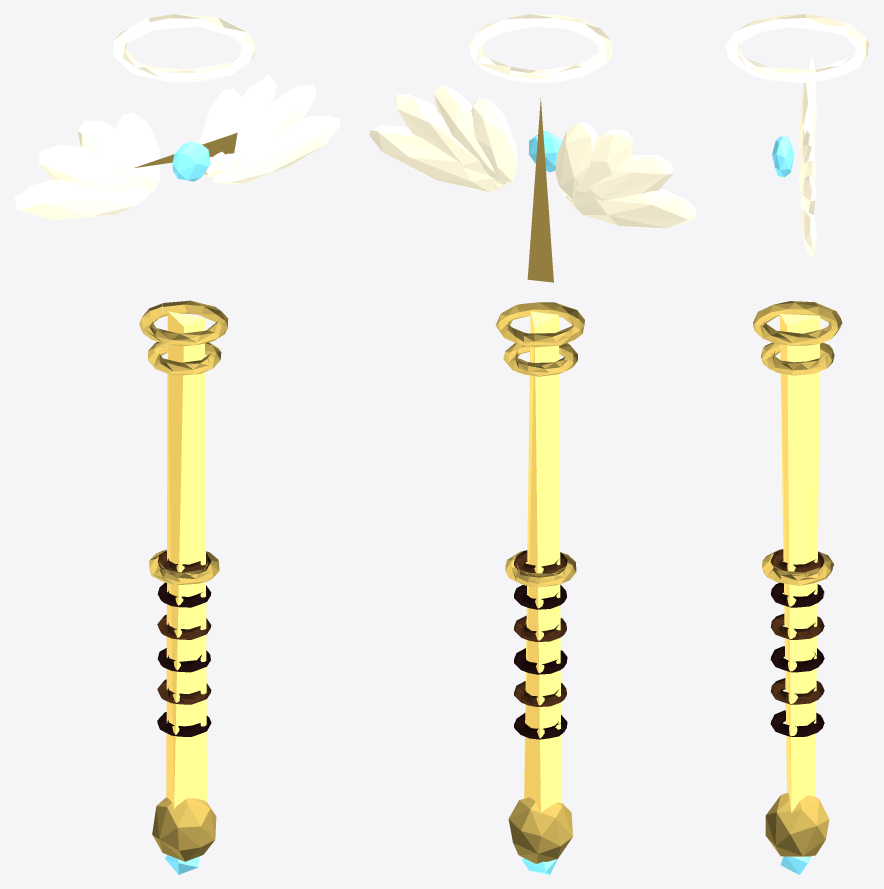
The model's file is wand_7.glb.
3 renders of one model, left to right at view 1: azimuth 30°, elevation 25°; view 2: azimuth 150°, elevation 25°; view 3: azimuth 270°, elevation 25°, orthographic.
Parts seen in each view (by area): view 1: part_01, part_23, part_15, part_19, part_11, part_16, part_20, part_10, part_17, part_21, part_18, part_22 (+4 smaller); view 2: part_01, part_23, part_19, part_15, part_11, part_16, part_13, part_20, part_22, part_10, part_18, part_21 (+9 smaller); view 3: part_01, part_23, part_11, part_10, part_09, part_08, part_14, part_18, part_02, part_03, part_05, part_06 (+6 smaller).
Boxes of the visible parts, left/top/right/bottom form: part_01: left=166, top=311, right=206, bottom=808; part_23: left=113, top=14, right=255, bottom=82; part_15: left=14, top=179, right=149, bottom=220; part_19: left=212, top=116, right=340, bottom=184; part_11: left=152, top=797, right=216, bottom=861; part_16: left=39, top=144, right=149, bottom=196; part_20: left=214, top=84, right=316, bottom=180; part_10: left=139, top=300, right=228, bottom=345; part_17: left=77, top=120, right=149, bottom=194; part_21: left=209, top=75, right=276, bottom=178; part_18: left=116, top=112, right=160, bottom=193; part_22: left=199, top=88, right=240, bottom=177; part_01: left=524, top=311, right=561, bottom=812; part_23: left=469, top=14, right=612, bottom=82; part_19: left=369, top=125, right=505, bottom=191; part_15: left=568, top=189, right=696, bottom=229; part_11: left=508, top=797, right=572, bottom=863; part_16: left=571, top=154, right=673, bottom=206; part_13: left=527, top=97, right=553, bottom=282; part_20: left=394, top=94, right=502, bottom=187; part_22: left=471, top=97, right=517, bottom=182; part_10: left=495, top=302, right=584, bottom=347; part_18: left=555, top=122, right=597, bottom=200; part_21: left=433, top=85, right=507, bottom=184; part_01: left=779, top=314, right=820, bottom=812; part_23: left=725, top=14, right=869, bottom=83; part_11: left=765, top=793, right=829, bottom=856; part_10: left=753, top=301, right=842, bottom=345; part_09: left=761, top=342, right=834, bottom=375; part_08: left=762, top=549, right=834, bottom=585; part_14: left=772, top=136, right=794, bottom=177; part_18: left=799, top=82, right=813, bottom=159; part_02: left=770, top=710, right=824, bottom=736; part_03: left=770, top=678, right=824, bottom=704; part_05: left=770, top=614, right=824, bottom=639; part_06: left=770, top=583, right=824, bottom=607.
Bounding box in the file's own units: 0.3166 × 0.7688 × 0.1211.
